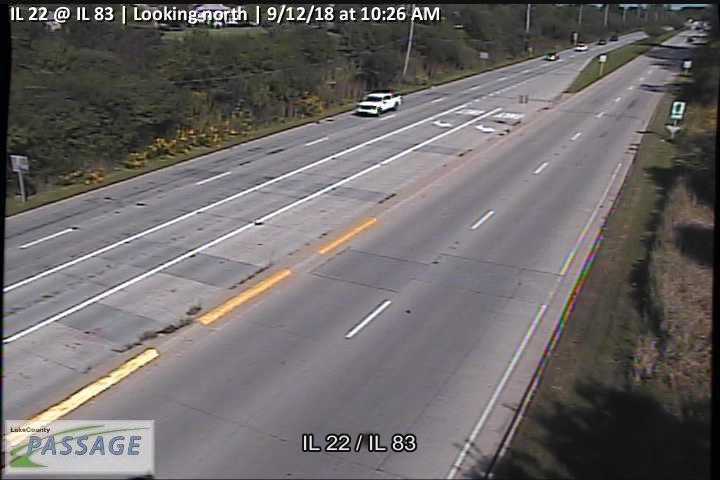Truck: (355, 90, 402, 116)
